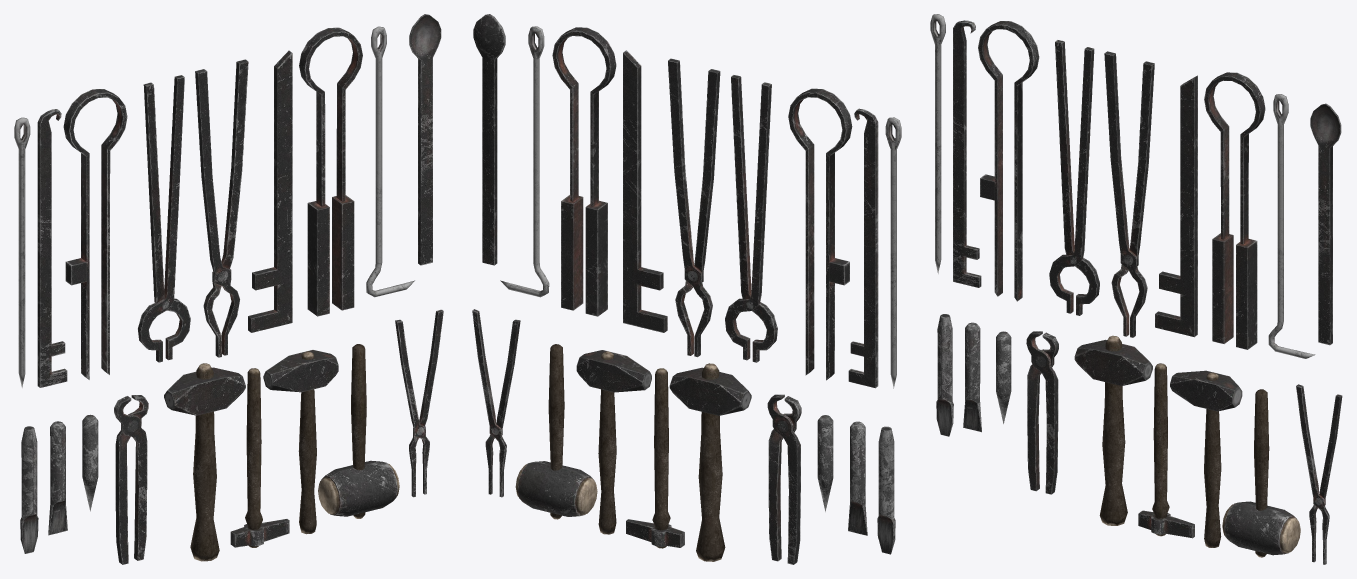
The picture shows the model from 3 angles, left to right: view 1: azimuth 30°, elevation 25°; view 2: azimuth 150°, elevation 25°; view 3: azimuth 330°, elevation 25°; orthographic projection. The views are drawn at different scales.
Parts seen in each view (by area): view 1: Holder01_low, Pince4_low, Pince3_low, Key01_low, Holder02_low, Key02_low, Spoon_low, Pince1_low, Hammer01_manche_low, Hammer4_top_low, Hammer01_top_low, Pince2_low (+10 smaller); view 2: Holder01_low, Pince4_low, Pince3_low, Holder02_low, Key01_low, Key02_low, Spoon_low, Pince1_low, Hammer4_top_low, Hammer01_manche_low, Hammer01_top_low, Pince2_low (+10 smaller); view 3: Holder01_low, Pince4_low, Pince3_low, Holder02_low, Key01_low, Key02_low, Spoon_low, Pince1_low, Hammer4_top_low, Hammer01_manche_low, Hammer01_top_low, Pince2_low (+10 smaller).
Boxes of the visible parts, bbox=[...] form: Holder01_low: bbox=[299, 27, 362, 316]; Pince4_low: bbox=[138, 75, 190, 362]; Pince3_low: bbox=[195, 59, 248, 357]; Key01_low: bbox=[248, 50, 292, 332]; Holder02_low: bbox=[63, 89, 127, 379]; Key02_low: bbox=[37, 109, 67, 387]; Spoon_low: bbox=[409, 14, 441, 265]; Pince1_low: bbox=[114, 395, 148, 564]; Hammer01_manche_low: bbox=[190, 363, 219, 561]; Hammer4_top_low: bbox=[318, 460, 399, 516]; Hammer01_top_low: bbox=[164, 367, 245, 415]; Pince2_low: bbox=[395, 309, 443, 497]; Holder01_low: bbox=[552, 27, 616, 316]; Pince4_low: bbox=[725, 75, 777, 362]; Pince3_low: bbox=[668, 58, 720, 357]; Holder02_low: bbox=[788, 88, 852, 380]; Key01_low: bbox=[623, 50, 667, 332]; Key02_low: bbox=[848, 108, 878, 388]; Spoon_low: bbox=[473, 14, 505, 265]; Pince1_low: bbox=[767, 394, 801, 564]; Hammer4_top_low: bbox=[515, 461, 597, 516]; Hammer01_manche_low: bbox=[696, 363, 725, 561]; Hammer01_top_low: bbox=[669, 367, 751, 415]; Pince2_low: bbox=[472, 309, 520, 497]; Holder01_low: bbox=[1204, 72, 1265, 349]; Pince4_low: bbox=[1049, 40, 1099, 315]; Pince3_low: bbox=[1104, 51, 1154, 337]; Holder02_low: bbox=[978, 21, 1039, 301]; Key01_low: bbox=[1155, 75, 1197, 337]; Key02_low: bbox=[953, 20, 981, 287]; Spoon_low: bbox=[1310, 103, 1341, 345]; Pince1_low: bbox=[1026, 331, 1058, 494]; Hammer4_top_low: bbox=[1222, 501, 1300, 555]; Hammer01_manche_low: bbox=[1099, 335, 1127, 525]; Hammer01_top_low: bbox=[1074, 339, 1152, 385]; Pince2_low: bbox=[1296, 384, 1342, 564].
Bounding box in the file's own units: 180 × 200 × 17.8.
1 material, 1 textured.
